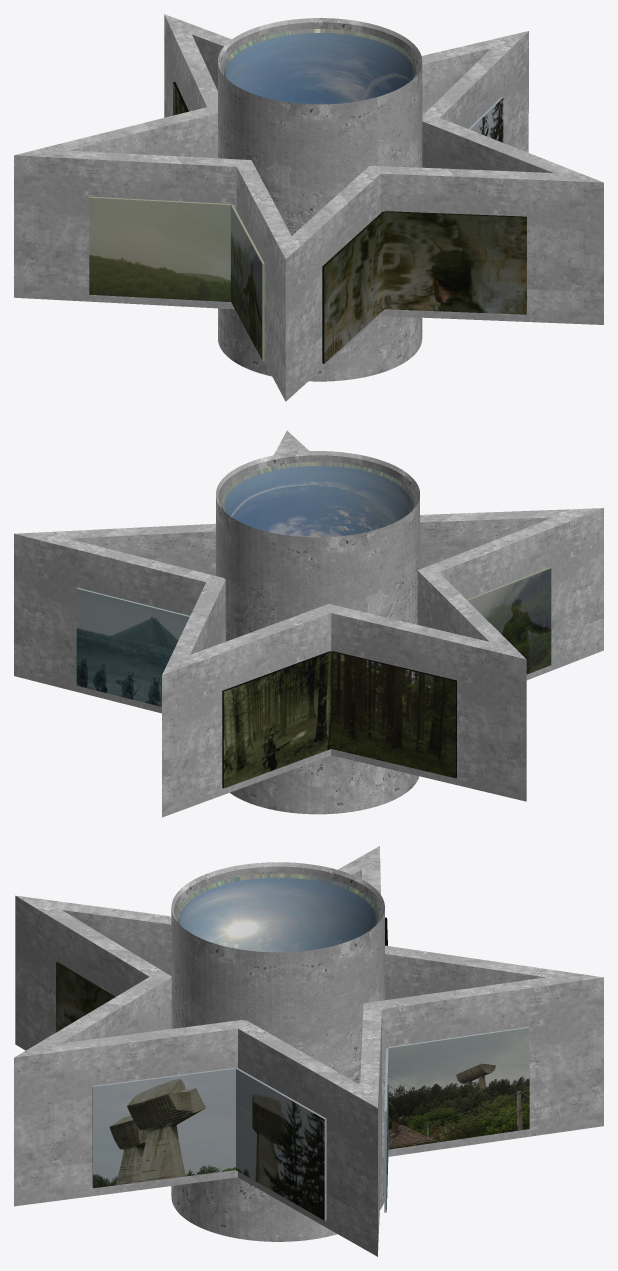
File: 360ansichtmostar.glb
3 views of the same model, one above another, from view 1: azimuth 30°, elevation 25°; view 2: azimuth 150°, elevation 25°; view 3: azimuth 270°, elevation 25° (orthographic). The views are drawn at different scales.
Parts seen in each view (by area): view 1: TWE - 3D-Ansicht - 3D-Ansicht 4.001, Cylinder.002, mostar, tjentiste, Cylinder.001, NIS; view 2: TWE - 3D-Ansicht - 3D-Ansicht 4.001, Cylinder.002, Kozara, Cylinder.001, mitrovica, tjentiste; view 3: TWE - 3D-Ansicht - 3D-Ansicht 4.001, Cylinder.002, NIS, mitrovica, Cylinder.001, mostar.
Boxes of the visible parts, x1=… form: TWE - 3D-Ansicht - 3D-Ansicht 4.001: x1=14, y1=14, x2=603, y2=401; Cylinder.002: x1=218, y1=18, x2=422, y2=381; mostar: x1=322, y1=211, x2=526, y2=363; tjentiste: x1=89, y1=196, x2=264, y2=360; Cylinder.001: x1=224, y1=29, x2=416, y2=104; NIS: x1=468, y1=97, x2=503, y2=142; TWE - 3D-Ansicht - 3D-Ansicht 4.001: x1=14, y1=430, x2=603, y2=817; Cylinder.002: x1=216, y1=451, x2=419, y2=814; Kozara: x1=222, y1=651, x2=456, y2=788; Cylinder.001: x1=222, y1=462, x2=413, y2=537; mitrovica: x1=76, y1=588, x2=189, y2=706; tjentiste: x1=467, y1=567, x2=551, y2=674; TWE - 3D-Ansicht - 3D-Ansicht 4.001: x1=14, y1=846, x2=603, y2=1256; Cylinder.002: x1=171, y1=862, x2=384, y2=1241; NIS: x1=92, y1=1067, x2=326, y2=1220; mitrovica: x1=384, y1=1026, x2=529, y2=1212; Cylinder.001: x1=178, y1=873, x2=378, y2=952; mostar: x1=56, y1=962, x2=115, y2=1032.
Size of the model in its own units: 13.96 by 7.2 by 13.29.
8 materials, 8 textured.
